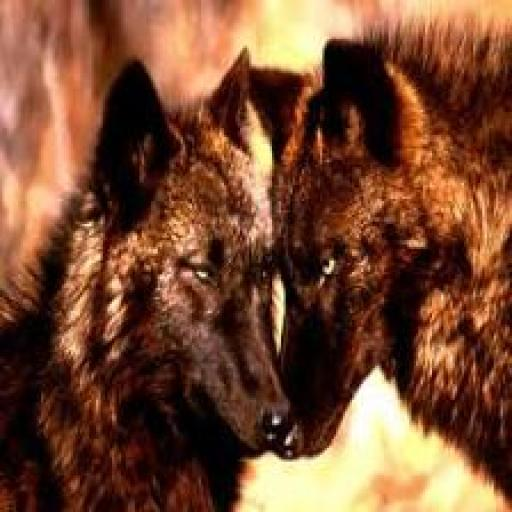wolf: (20, 39, 310, 512), (254, 16, 511, 490)
